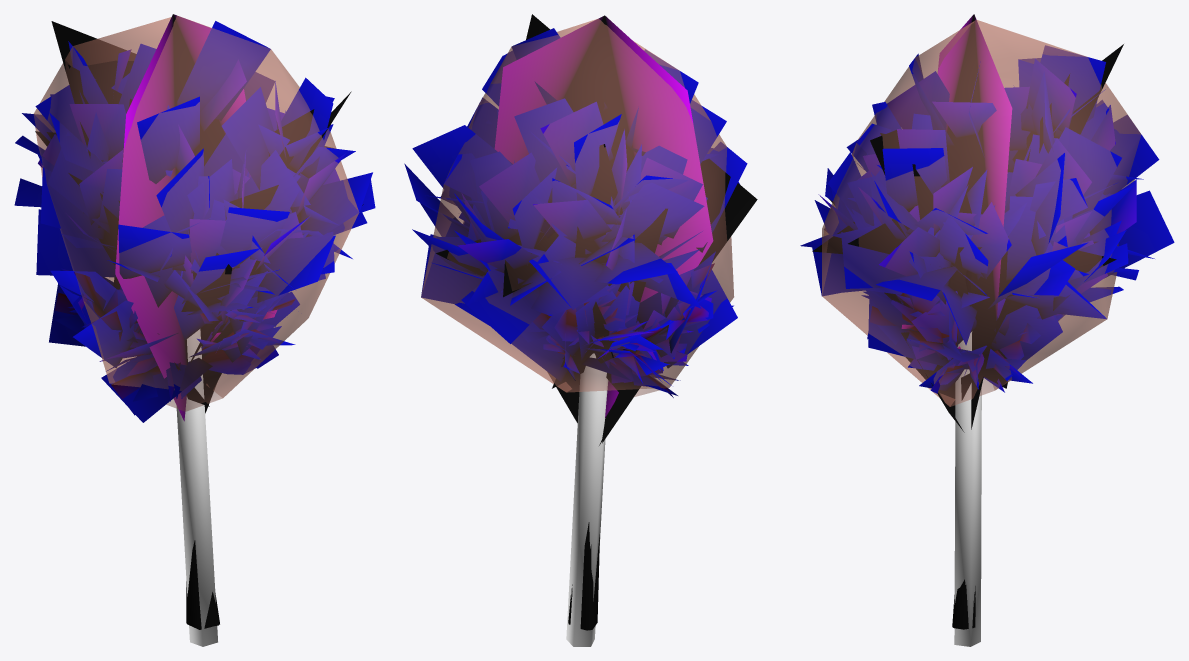
Rendered from tree_beech_small_d.dae.
3 renders of one model, left to right at view 1: azimuth 30°, elevation 25°; view 2: azimuth 150°, elevation 25°; view 3: azimuth 270°, elevation 25°, orthographic. The views are drawn at different scales.
Parts seen in each view (by area): view 1: Colmesh_small_d-1, beech_small_d_a400, beech_small_d_a1500, beech_small_d_a800; view 2: Colmesh_small_d-1, beech_small_d_a1500, beech_small_d_a800, beech_small_d_a400; view 3: Colmesh_small_d-1, beech_small_d_a400, beech_small_d_a1500, beech_small_d_a800.
Part boxes in pixels (<box>): Colmesh_small_d-1: <box>33,15,359,646</box>; beech_small_d_a400: <box>15,14,375,629</box>; beech_small_d_a1500: <box>35,21,375,629</box>; beech_small_d_a800: <box>14,15,367,390</box>; Colmesh_small_d-1: <box>421,18,734,646</box>; beech_small_d_a1500: <box>412,14,733,630</box>; beech_small_d_a800: <box>404,14,757,443</box>; beech_small_d_a400: <box>405,16,747,630</box>; Colmesh_small_d-1: <box>822,20,1141,646</box>; beech_small_d_a400: <box>812,14,1173,629</box>; beech_small_d_a1500: <box>800,58,1154,629</box>; beech_small_d_a800: <box>812,14,1174,432</box>.
Bounding box in the file's own units: 5.1 × 5.81 × 10.16.
